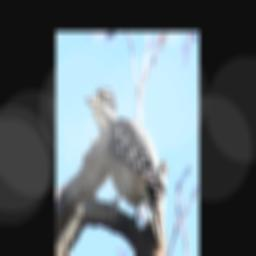Woodpecker: (83, 86, 167, 244)
